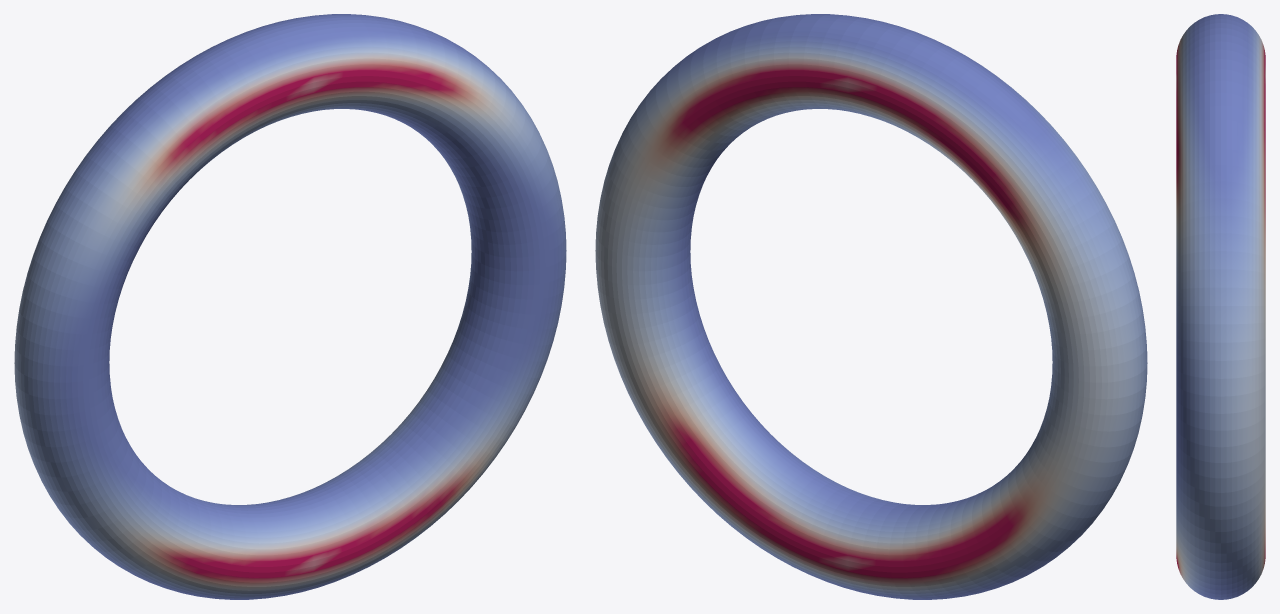
3 renders of one model, left to right at view 1: azimuth 30°, elevation 25°; view 2: azimuth 150°, elevation 25°; view 3: azimuth 270°, elevation 25°, orthographic. The views are drawn at different scales.
Visible parts, largest first — view 1: world; view 2: world; view 3: world.
Boxes of the visible parts, left/top/right/bottom form: world: left=14, top=14, right=566, bottom=599; world: left=595, top=14, right=1147, bottom=599; world: left=1176, top=14, right=1265, bottom=599.
Size of the model in its own units: 23.6 by 23.6 by 3.59.
